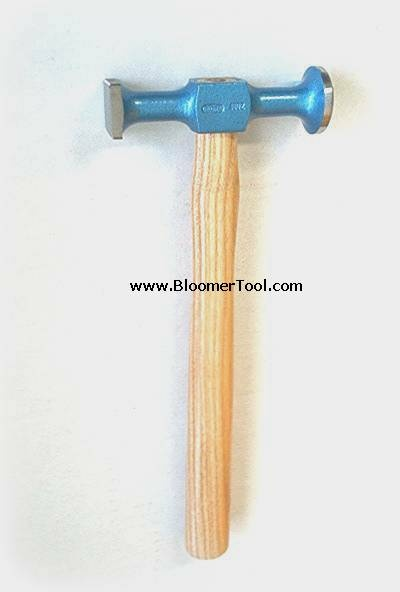hammer: (98, 67, 348, 277)
